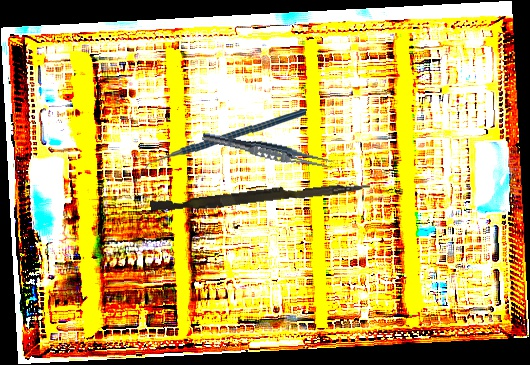Chopper: (141, 106, 306, 179)
Pusher: (149, 174, 371, 218)
Tissue Forceps: (200, 129, 337, 173)
